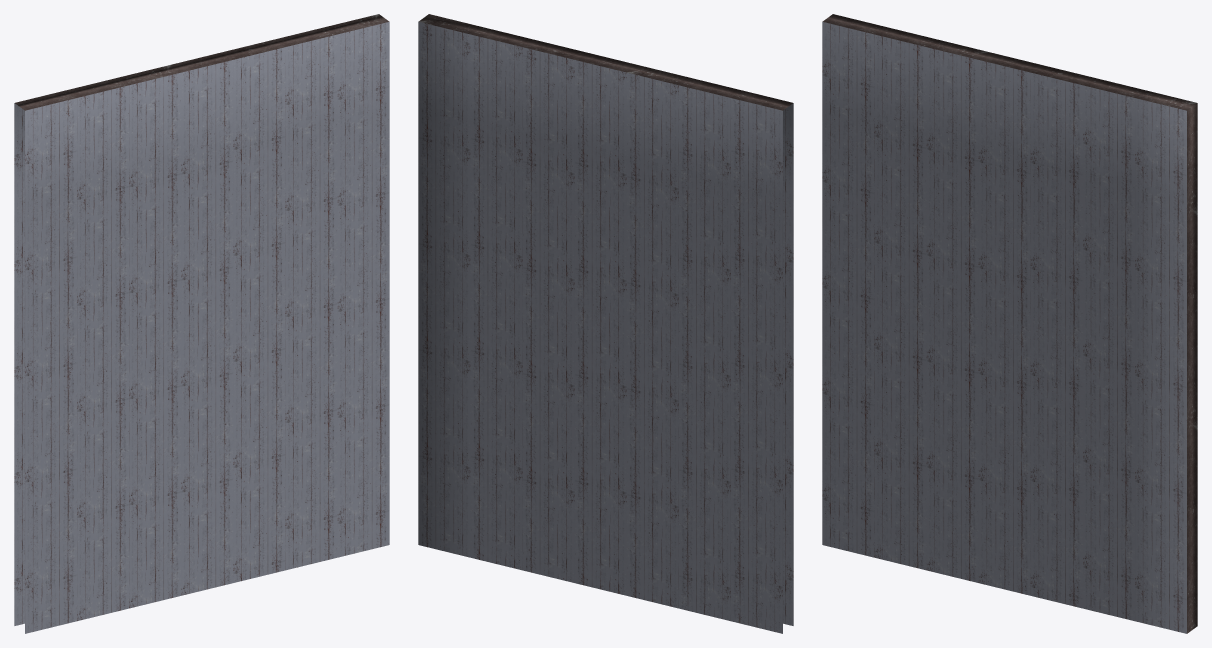
Rendered from CorrugatedFenceBig.fbx.
3 views of the same model, side by side, from view 1: azimuth 30°, elevation 25°; view 2: azimuth 150°, elevation 25°; view 3: azimuth 330°, elevation 25° (orthographic).
Parts seen in each view (by area): view 1: BigCorFence; view 2: BigCorFence; view 3: BigCorFence.
Boxes of the visible parts, left/top/right/bottom form: BigCorFence: left=14, top=14, right=389, bottom=633; BigCorFence: left=418, top=14, right=793, bottom=633; BigCorFence: left=822, top=14, right=1197, bottom=633.
Size of the model in its own units: 627 by 860 by 31.5.
